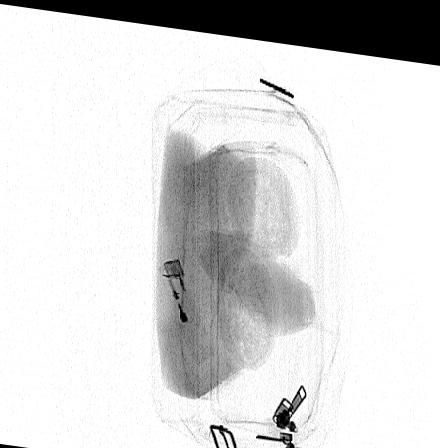Lighter: (160, 254, 215, 360)
